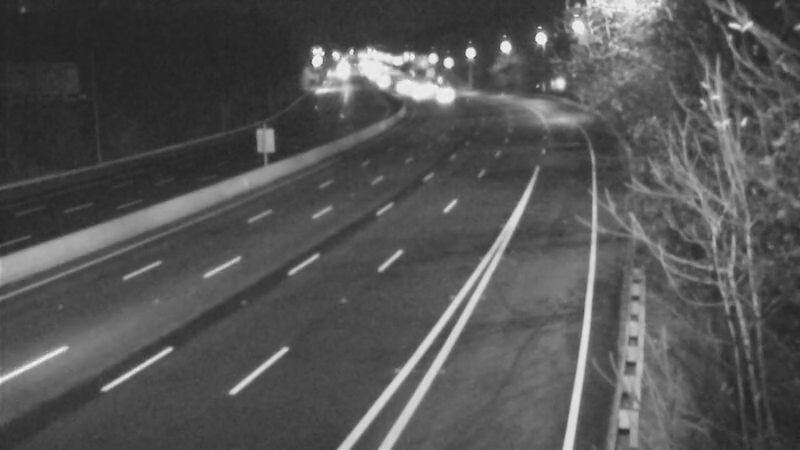vehicle: (374, 61, 424, 111), (423, 70, 473, 120)
